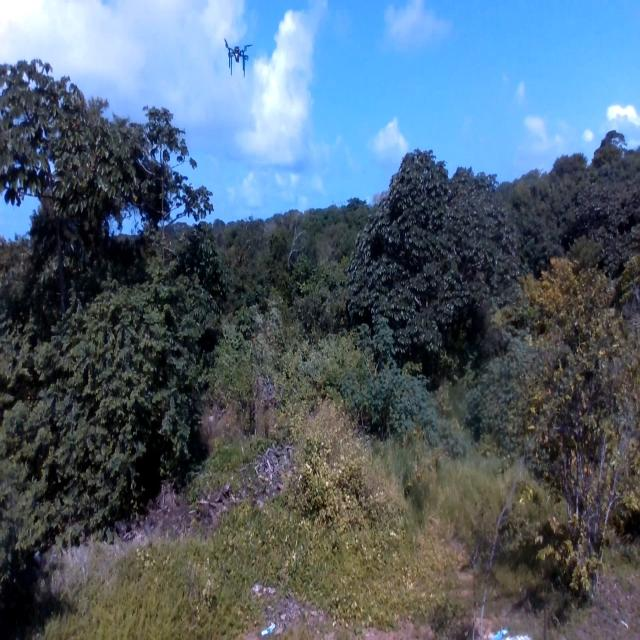-uav-: (217, 30, 255, 83)
